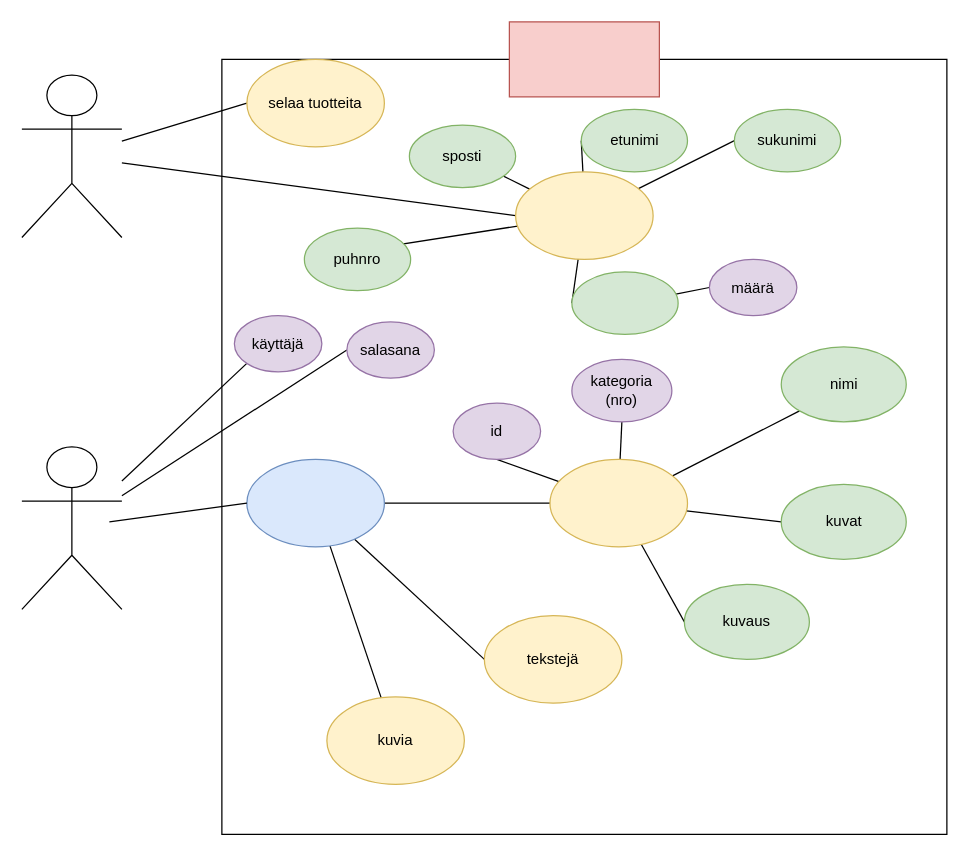
Some shapes in this 969 by 856 pixel diagram are drawn without their labels. The centre of each missing label's shape, as x and y in pixels:
"admin" goes at point (71, 527).
"asiakas" goes at point (71, 156).
"muokkaa" goes at point (315, 502).
"nettisivut" goes at point (583, 59).
"tuotekoodi" goes at point (624, 302).
"tuotteita" goes at point (618, 502).
"täyttää tilaus lomakkeen" goes at point (583, 215).
